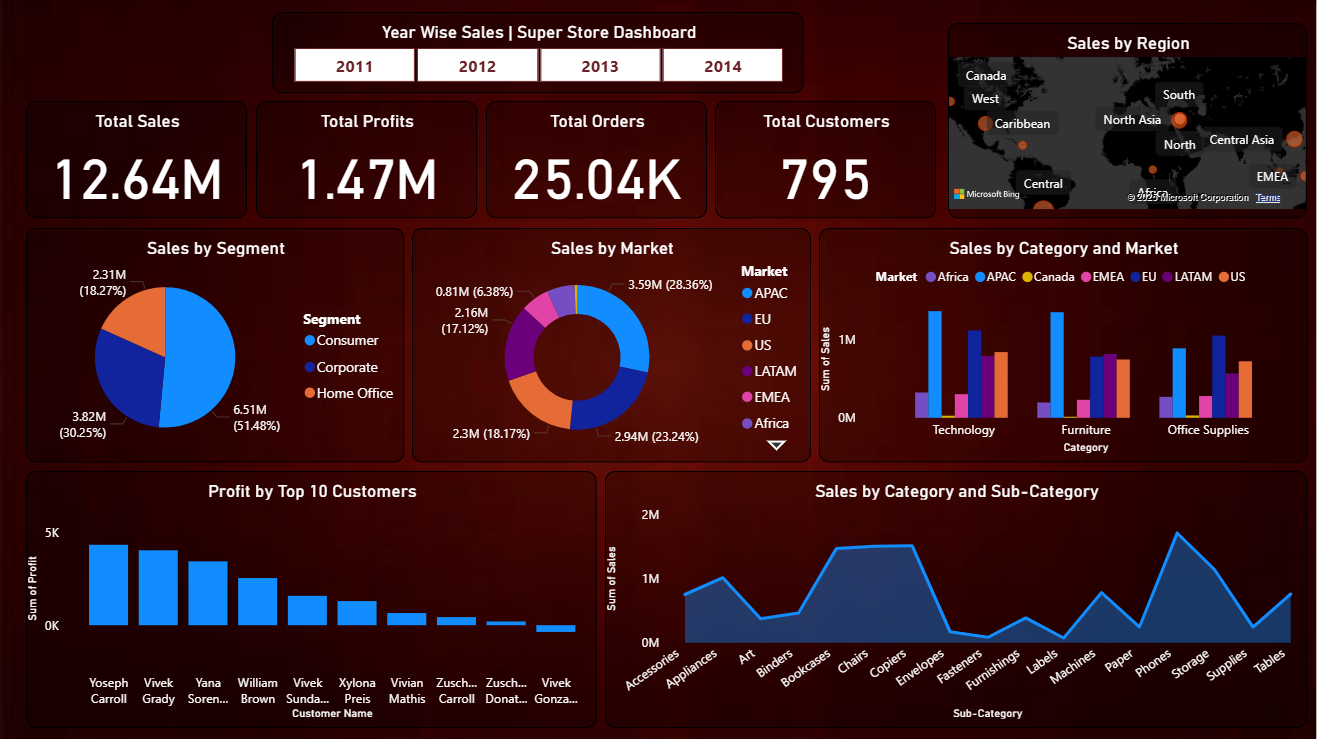

The dashboard page shown, as its layout file describes it:
{"tool":"powerbi","page":{"name":"Page 1","canvas":[1280,720],"ordinal":0},"visuals":[{"type":"slicer","title":"Year Wise Sales | Super Store Dashboard","fields":{"Values":["SuperStore.Year"]},"box":[264.6,11.7,517.4,78.8],"z":0},{"type":"card","title":"Total Sales","fields":{"Values":["SuperStore.Sales"]},"box":[25.3,98.3,215,113.8],"z":1000},{"type":"card","title":"Total Profits","fields":{"Values":["SuperStore.Profit"]},"box":[249,98.3,215,113.8],"z":2000},{"type":"card","title":"Total Orders","fields":{"Values":["SuperStore.Order ID"]},"box":[472.7,98.3,215,113.8],"z":3000},{"type":"card","title":"Total Customers","fields":{"Values":["SuperStore.Customer Name"]},"box":[695.4,98.3,215,113.8],"z":4000},{"type":"pieChart","title":"Sales by Segment","fields":{"Category":["SuperStore.Segment"],"Y":["SuperStore.Sales"]},"box":[25.3,221.8,367.7,227.6],"z":5000},{"type":"donutChart","title":"Sales by Market","fields":{"Category":["SuperStore.Market"],"Y":["SuperStore.Sales"]},"box":[400.7,221.8,388.1,227.6],"z":6000},{"type":"clusteredColumnChart","title":"Profit by Top 10 Customers","fields":{"Y":["SuperStore.Profit"],"Category":["SuperStore.Customer Name"]},"box":[25.3,458.1,555.4,250],"z":7000},{"type":"map","title":"Sales by Region","fields":{"Size":["SuperStore.Sales"],"Category":["SuperStore.Region"]},"box":[922.1,22.4,349.2,189.7],"z":8000},{"type":"stackedAreaChart","title":"Sales by Category and Sub-Category","fields":{"Category":["SuperStore.Category","SuperStore.Sub-Category"],"Y":["SuperStore.Sales"]},"box":[588.4,458.1,682.8,250],"z":9000},{"type":"clusteredColumnChart","title":"Sales by Category and Market","fields":{"Category":["SuperStore.Category"],"Series":["SuperStore.Market"],"Y":["SuperStore.Sales"]},"box":[796.6,221.8,474.7,227.6],"z":10000}]}

Visuals, with their boxes in screenshot pixels (x1, y1, x2, y2), scaled from the page's 1280x720 canvas onto the 1317x739 screenshot:
"Year Wise Sales | Super Store Dashboard" slicer: left=272, top=12, right=805, bottom=93
"Total Sales" card: left=26, top=101, right=247, bottom=218
"Total Profits" card: left=256, top=101, right=477, bottom=218
"Total Orders" card: left=486, top=101, right=708, bottom=218
"Total Customers" card: left=716, top=101, right=937, bottom=218
"Sales by Segment" pieChart: left=26, top=228, right=404, bottom=461
"Sales by Market" donutChart: left=412, top=228, right=812, bottom=461
"Profit by Top 10 Customers" clusteredColumnChart: left=26, top=470, right=597, bottom=727
"Sales by Region" map: left=949, top=23, right=1308, bottom=218
"Sales by Category and Sub-Category" stackedAreaChart: left=605, top=470, right=1308, bottom=727
"Sales by Category and Market" clusteredColumnChart: left=820, top=228, right=1308, bottom=461
